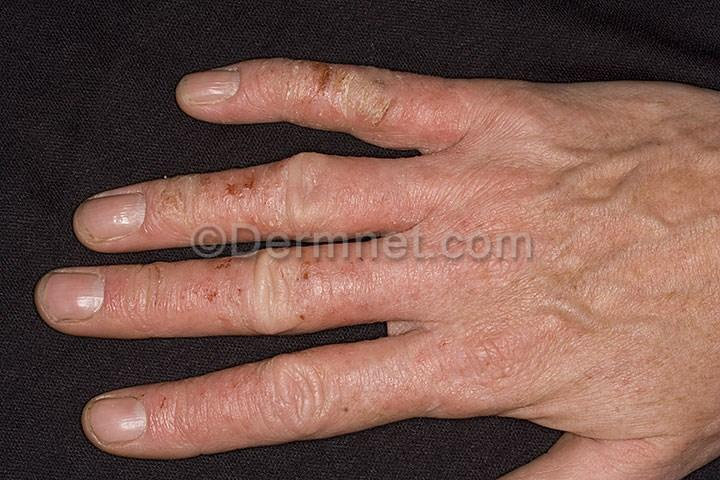Eczema: (421, 204, 507, 279), (473, 331, 540, 409), (415, 155, 498, 215), (475, 274, 550, 338), (420, 249, 477, 327), (453, 91, 508, 164), (494, 156, 552, 224), (274, 159, 325, 236), (345, 351, 396, 425), (328, 159, 380, 231), (248, 247, 287, 340), (337, 248, 387, 320), (360, 67, 412, 136), (291, 249, 338, 325), (506, 105, 562, 168), (153, 265, 202, 335), (435, 310, 493, 369), (195, 382, 257, 437), (260, 364, 306, 438), (410, 77, 459, 146), (307, 67, 362, 127), (398, 348, 443, 419), (380, 243, 427, 310), (233, 166, 277, 236), (106, 271, 150, 341), (440, 356, 491, 415), (304, 360, 345, 432), (149, 386, 197, 444), (208, 266, 246, 334), (146, 187, 190, 245), (193, 181, 234, 241), (379, 158, 416, 223), (261, 69, 310, 109), (309, 347, 385, 364), (375, 337, 454, 352), (213, 368, 257, 385)
